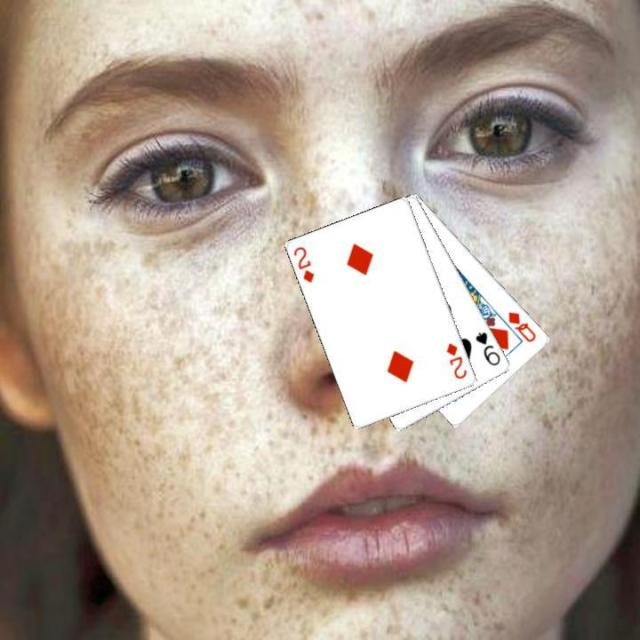2D: (443, 339, 469, 381), (290, 242, 316, 284)
9S: (471, 328, 502, 368)
QD: (504, 308, 538, 344)
